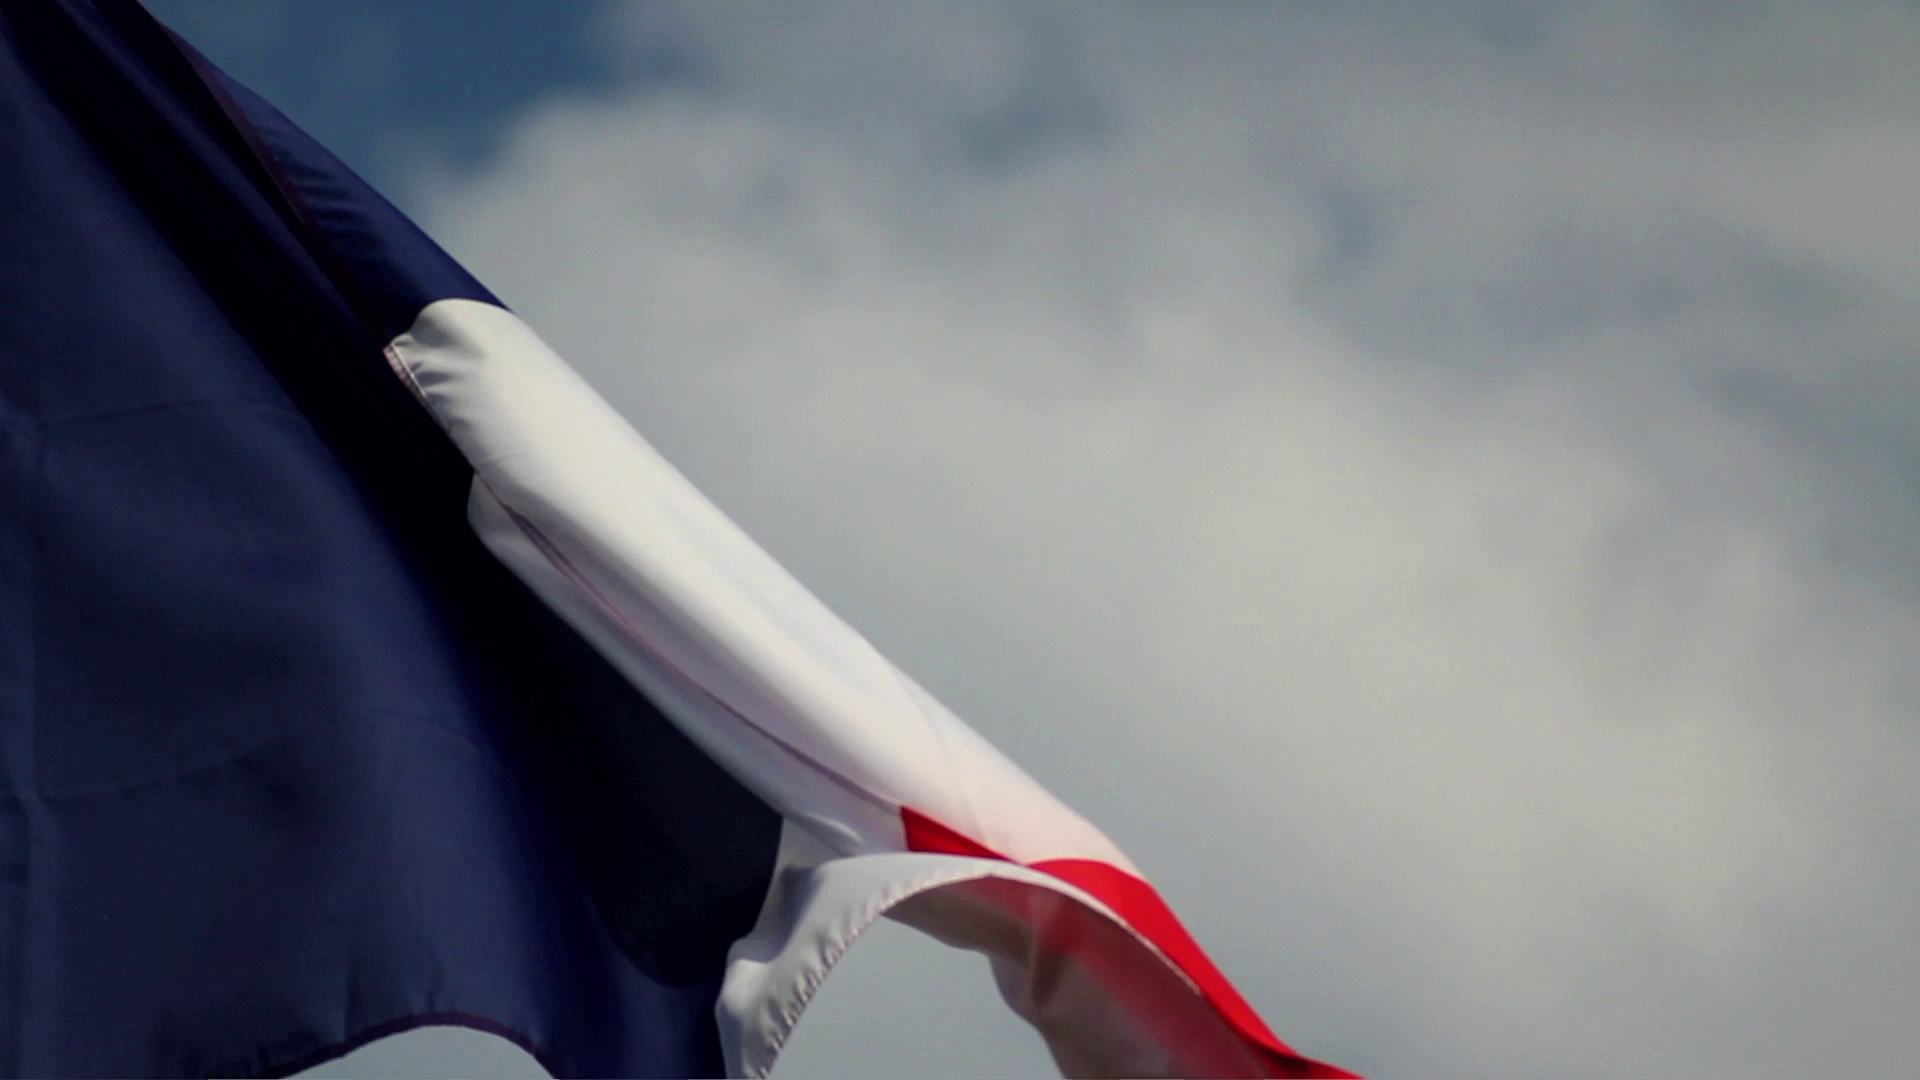French Flag: (1, 1, 1369, 1080)
